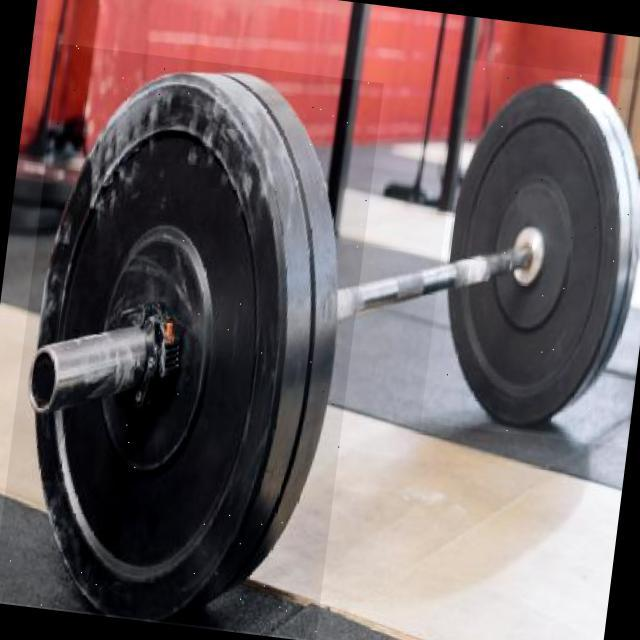barbell: (1, 44, 384, 640), (422, 60, 640, 448)
